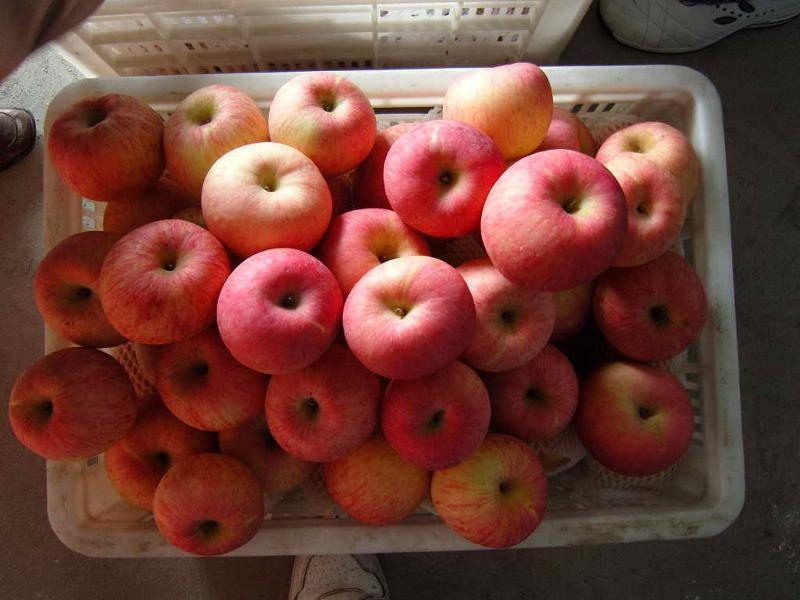apple: (481, 144, 628, 292), (4, 343, 142, 462), (215, 245, 344, 371), (344, 255, 472, 381), (100, 217, 229, 342), (378, 117, 505, 243), (202, 142, 332, 262), (42, 81, 163, 205), (574, 361, 695, 477), (428, 436, 550, 551), (591, 248, 707, 361), (153, 451, 267, 560), (264, 349, 381, 454), (440, 58, 557, 162), (379, 364, 488, 469), (269, 71, 372, 173), (163, 85, 266, 187), (30, 231, 117, 350), (599, 152, 688, 266), (153, 339, 262, 432), (490, 343, 579, 439), (350, 127, 398, 212)
